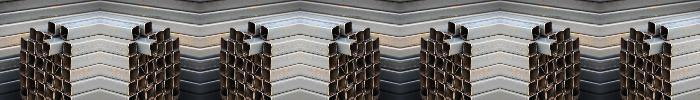pipe: (348, 33, 358, 47), (242, 33, 252, 47), (442, 33, 452, 47), (148, 33, 158, 47), (548, 33, 558, 47), (42, 33, 52, 47), (642, 33, 652, 47), (337, 52, 346, 66), (337, 77, 346, 91), (338, 64, 347, 78), (254, 52, 263, 66), (454, 52, 463, 66), (137, 52, 146, 66), (537, 52, 546, 66), (54, 52, 63, 66), (654, 52, 663, 66), (254, 77, 263, 91), (454, 77, 463, 91), (137, 77, 146, 91), (537, 77, 546, 91), (54, 77, 63, 91), (654, 77, 663, 91), (253, 64, 262, 78), (453, 64, 462, 78), (138, 64, 147, 78), (538, 64, 547, 78), (53, 64, 62, 78), (653, 64, 662, 78), (349, 42, 358, 55), (242, 42, 251, 55), (442, 42, 451, 55), (149, 42, 158, 55), (549, 42, 558, 55), (42, 42, 51, 55), (642, 42, 651, 55), (332, 26, 340, 40), (329, 55, 337, 69), (328, 81, 336, 95), (347, 73, 355, 87), (347, 60, 355, 74), (356, 56, 364, 70), (355, 69, 363, 83), (260, 26, 268, 40), (460, 26, 468, 40), (132, 26, 140, 40), (532, 26, 540, 40), (60, 26, 68, 40), (660, 26, 668, 40), (263, 55, 271, 69), (463, 55, 471, 69), (129, 55, 137, 69), (529, 55, 537, 69), (63, 55, 71, 69), (663, 55, 671, 69), (264, 81, 272, 95), (464, 81, 472, 95), (128, 81, 136, 95), (528, 81, 536, 95), (64, 81, 72, 95), (664, 81, 672, 95), (245, 73, 253, 87), (445, 73, 453, 87), (147, 73, 155, 87), (547, 73, 555, 87), (45, 73, 53, 87), (645, 73, 653, 87), (245, 60, 253, 74), (445, 60, 453, 74), (147, 60, 155, 74), (547, 60, 555, 74), (45, 60, 53, 74), (645, 60, 653, 74), (236, 56, 244, 70), (436, 56, 444, 70), (156, 56, 164, 70), (556, 56, 564, 70), (36, 56, 44, 70), (636, 56, 644, 70), (237, 69, 245, 83), (437, 69, 445, 83), (155, 69, 163, 83), (555, 69, 563, 83), (37, 69, 45, 83), (637, 69, 645, 83), (344, 22, 352, 35), (356, 43, 364, 56), (346, 86, 354, 99), (248, 22, 256, 35), (448, 22, 456, 35), (144, 22, 152, 35), (544, 22, 552, 35), (48, 22, 56, 35), (648, 22, 656, 35), (236, 43, 244, 56), (436, 43, 444, 56), (156, 43, 164, 56), (556, 43, 564, 56), (36, 43, 44, 56), (636, 43, 644, 56), (246, 86, 254, 99), (446, 86, 454, 99), (146, 86, 154, 99), (546, 86, 554, 99), (46, 86, 54, 99), (646, 86, 654, 99), (329, 42, 336, 56), (356, 30, 363, 44), (330, 68, 337, 82), (356, 82, 363, 96), (365, 78, 372, 92), (365, 53, 372, 67), (373, 50, 380, 64), (264, 42, 271, 56), (464, 42, 471, 56), (129, 42, 136, 56), (529, 42, 536, 56), (64, 42, 71, 56), (664, 42, 671, 56), (237, 30, 244, 44), (437, 30, 444, 44), (156, 30, 163, 44), (556, 30, 563, 44), (37, 30, 44, 44), (637, 30, 644, 44), (263, 68, 270, 82), (463, 68, 470, 82), (130, 68, 137, 82), (530, 68, 537, 82), (63, 68, 70, 82), (663, 68, 670, 82), (237, 82, 244, 96), (437, 82, 444, 96), (156, 82, 163, 96), (556, 82, 563, 96), (37, 82, 44, 96), (637, 82, 644, 96), (228, 78, 235, 92), (428, 78, 435, 92), (165, 78, 172, 92), (565, 78, 572, 92), (28, 78, 35, 92), (628, 78, 635, 92), (228, 53, 235, 67), (428, 53, 435, 67), (165, 53, 172, 67), (565, 53, 572, 67), (28, 53, 35, 67), (628, 53, 635, 67), (220, 50, 227, 64), (420, 50, 427, 64), (173, 50, 180, 64), (573, 50, 580, 64), (20, 50, 27, 64), (620, 50, 627, 64), (363, 28, 370, 41), (365, 66, 372, 79), (374, 62, 381, 75), (373, 74, 380, 87), (230, 28, 237, 41), (430, 28, 437, 41), (163, 28, 170, 41), (563, 28, 570, 41), (30, 28, 37, 41), (630, 28, 637, 41), (228, 66, 235, 79), (428, 66, 435, 79), (165, 66, 172, 79), (565, 66, 572, 79), (28, 66, 35, 79), (628, 66, 635, 79), (219, 62, 226, 75), (419, 62, 426, 75), (174, 62, 181, 75), (574, 62, 581, 75), (19, 62, 26, 75), (619, 62, 626, 75), (220, 74, 227, 87), (420, 74, 427, 87), (173, 74, 180, 87), (573, 74, 580, 87), (20, 74, 27, 87), (620, 74, 627, 87), (366, 41, 372, 55), (373, 86, 379, 100), (228, 41, 234, 55), (428, 41, 434, 55), (166, 41, 172, 55), (566, 41, 572, 55), (28, 41, 34, 55), (628, 41, 634, 55), (221, 86, 227, 100), (421, 86, 427, 100), (173, 86, 179, 100), (573, 86, 579, 100), (21, 86, 27, 100), (621, 86, 627, 100), (373, 38, 379, 51), (221, 38, 227, 51), (421, 38, 427, 51), (173, 38, 179, 51), (573, 38, 579, 51), (21, 38, 27, 51), (621, 38, 627, 51)
